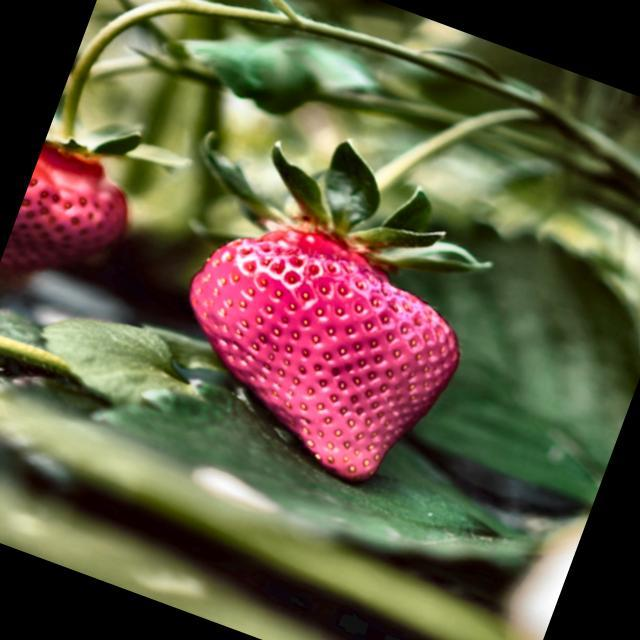strawberry: (190, 228, 459, 481), (1, 144, 126, 270)
